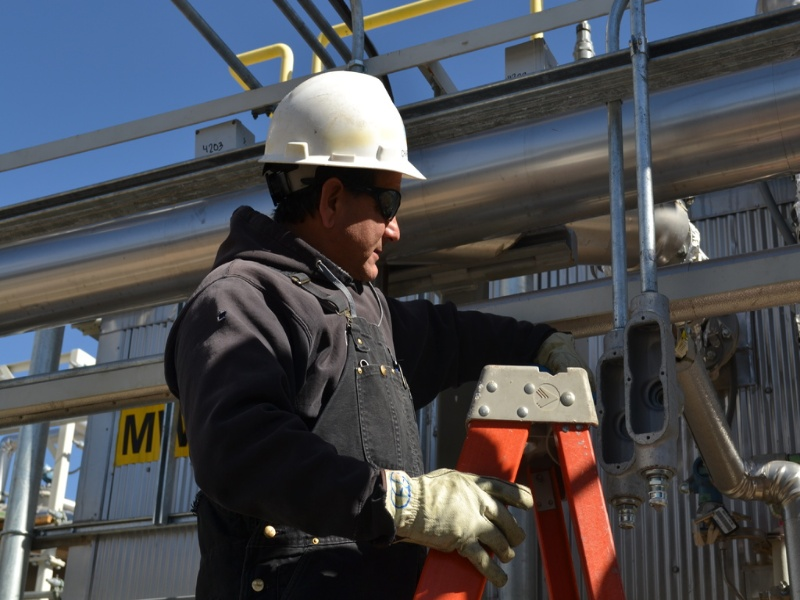Baret: (260, 69, 426, 184)
